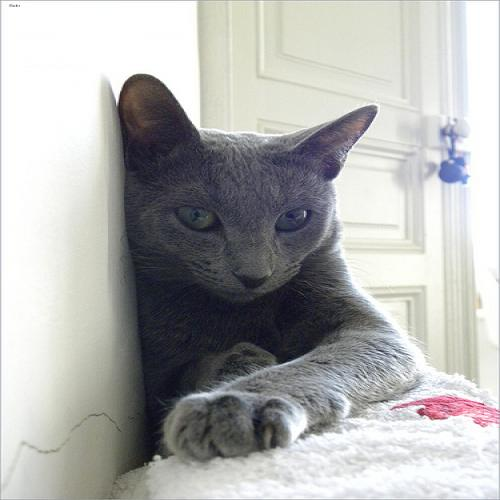rblue: (105, 72, 383, 305)
